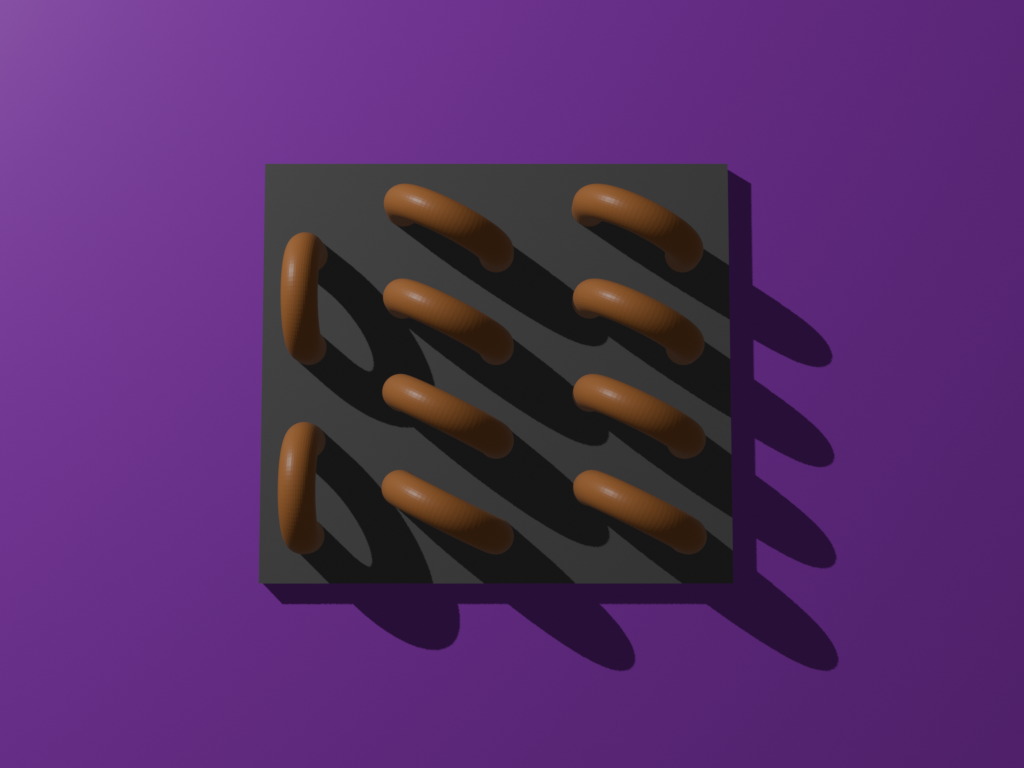return-bend: (362, 349, 536, 482), (552, 253, 725, 386), (362, 451, 536, 583), (554, 448, 728, 580), (558, 348, 732, 480), (364, 255, 537, 387), (365, 163, 538, 295), (553, 159, 726, 291), (268, 406, 335, 567), (268, 222, 335, 376)
